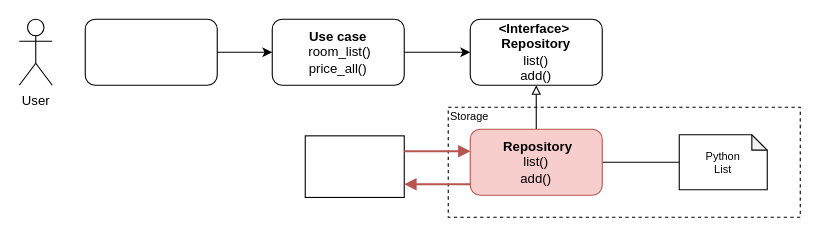
The diagram is 820 pixels wide and 237 high, and some of its shapes have lost their labels. Each missing label, with the centre of its shape:
"UI CLI" belongs at [150,51].
"UT" belongs at [354,166].
